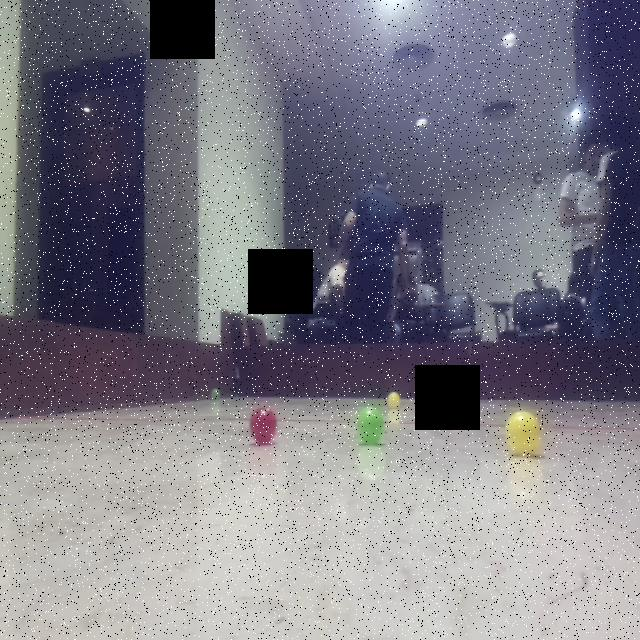ball: (354, 404, 388, 448), (445, 390, 469, 412), (385, 388, 403, 412), (208, 384, 226, 400)
